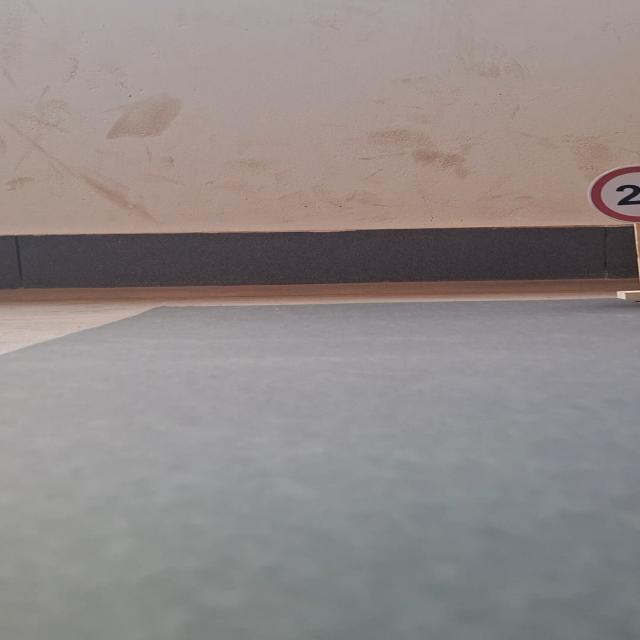Speed20: (580, 159, 640, 226)
